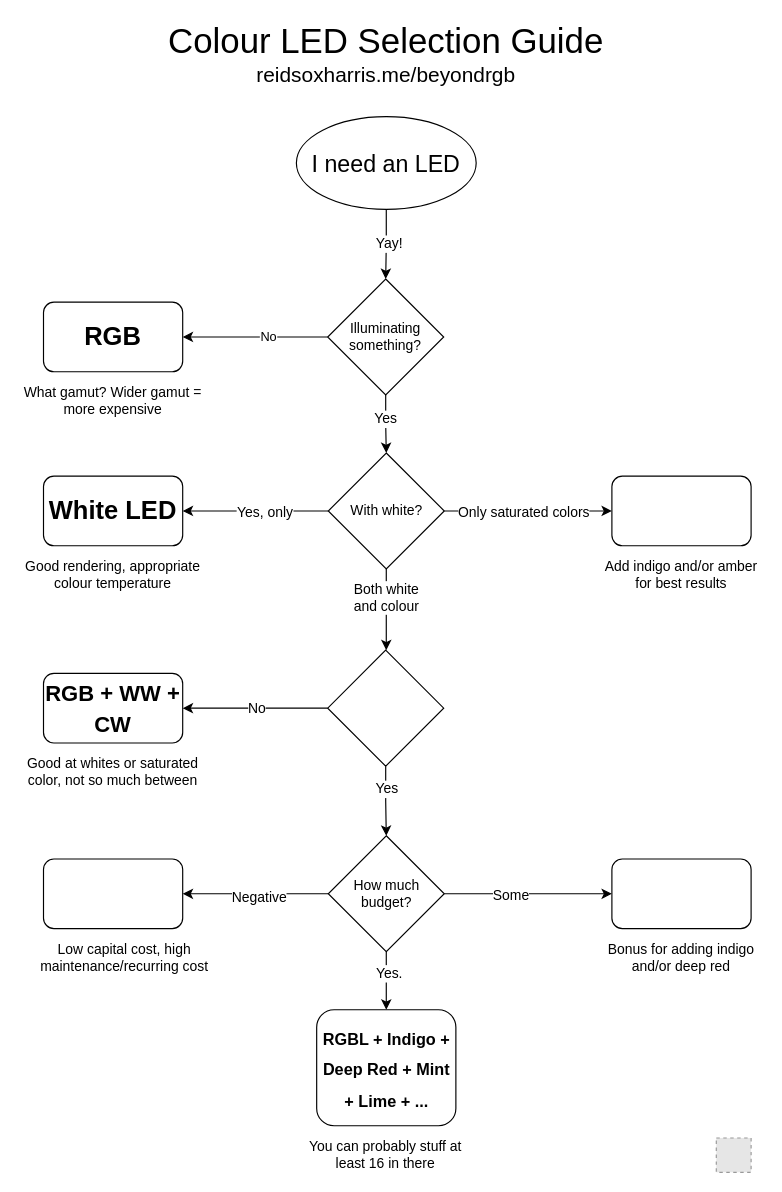
This 782x1192 diagram has some shape labels left out. Grey dashed boxes stand in for pictures. Each missing label, with the box of its shape:
Incandescent + Gel: (42, 858, 183, 929)
Need pastels?: (327, 649, 444, 766)
RGB+: (611, 475, 751, 546)
RGBL: (611, 858, 751, 929)
